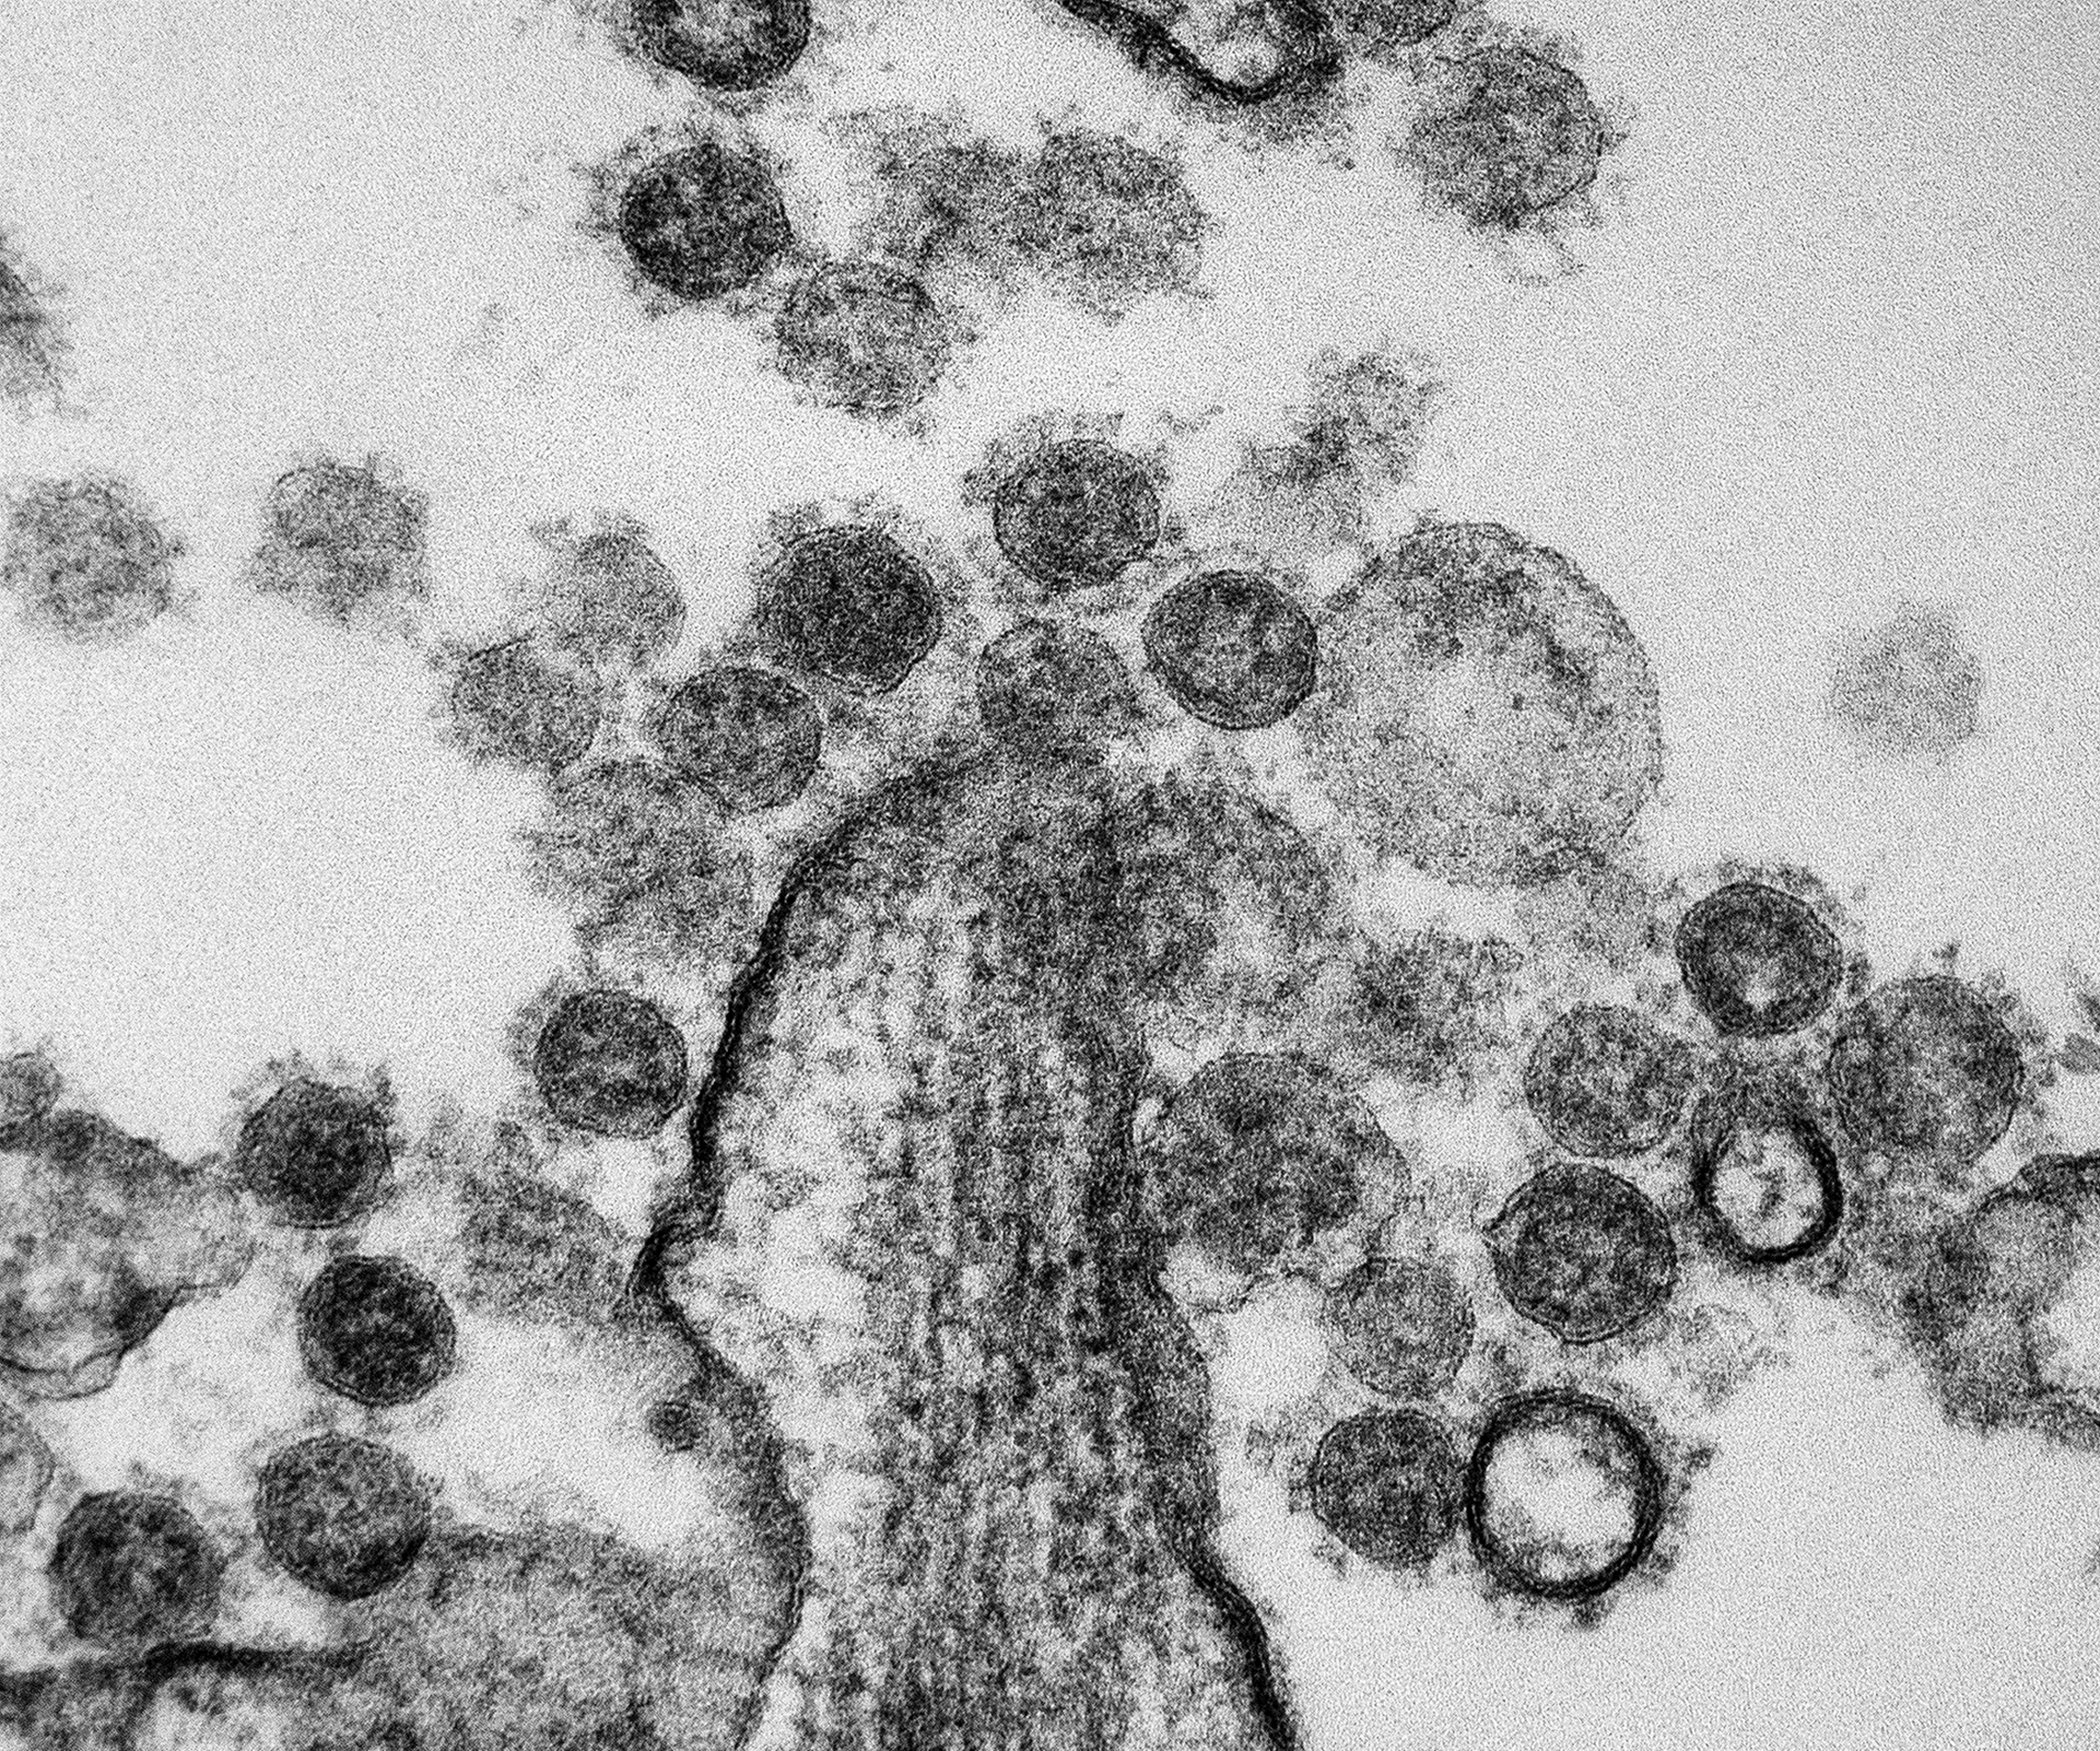COVID19: (276, 98, 1533, 1291)
